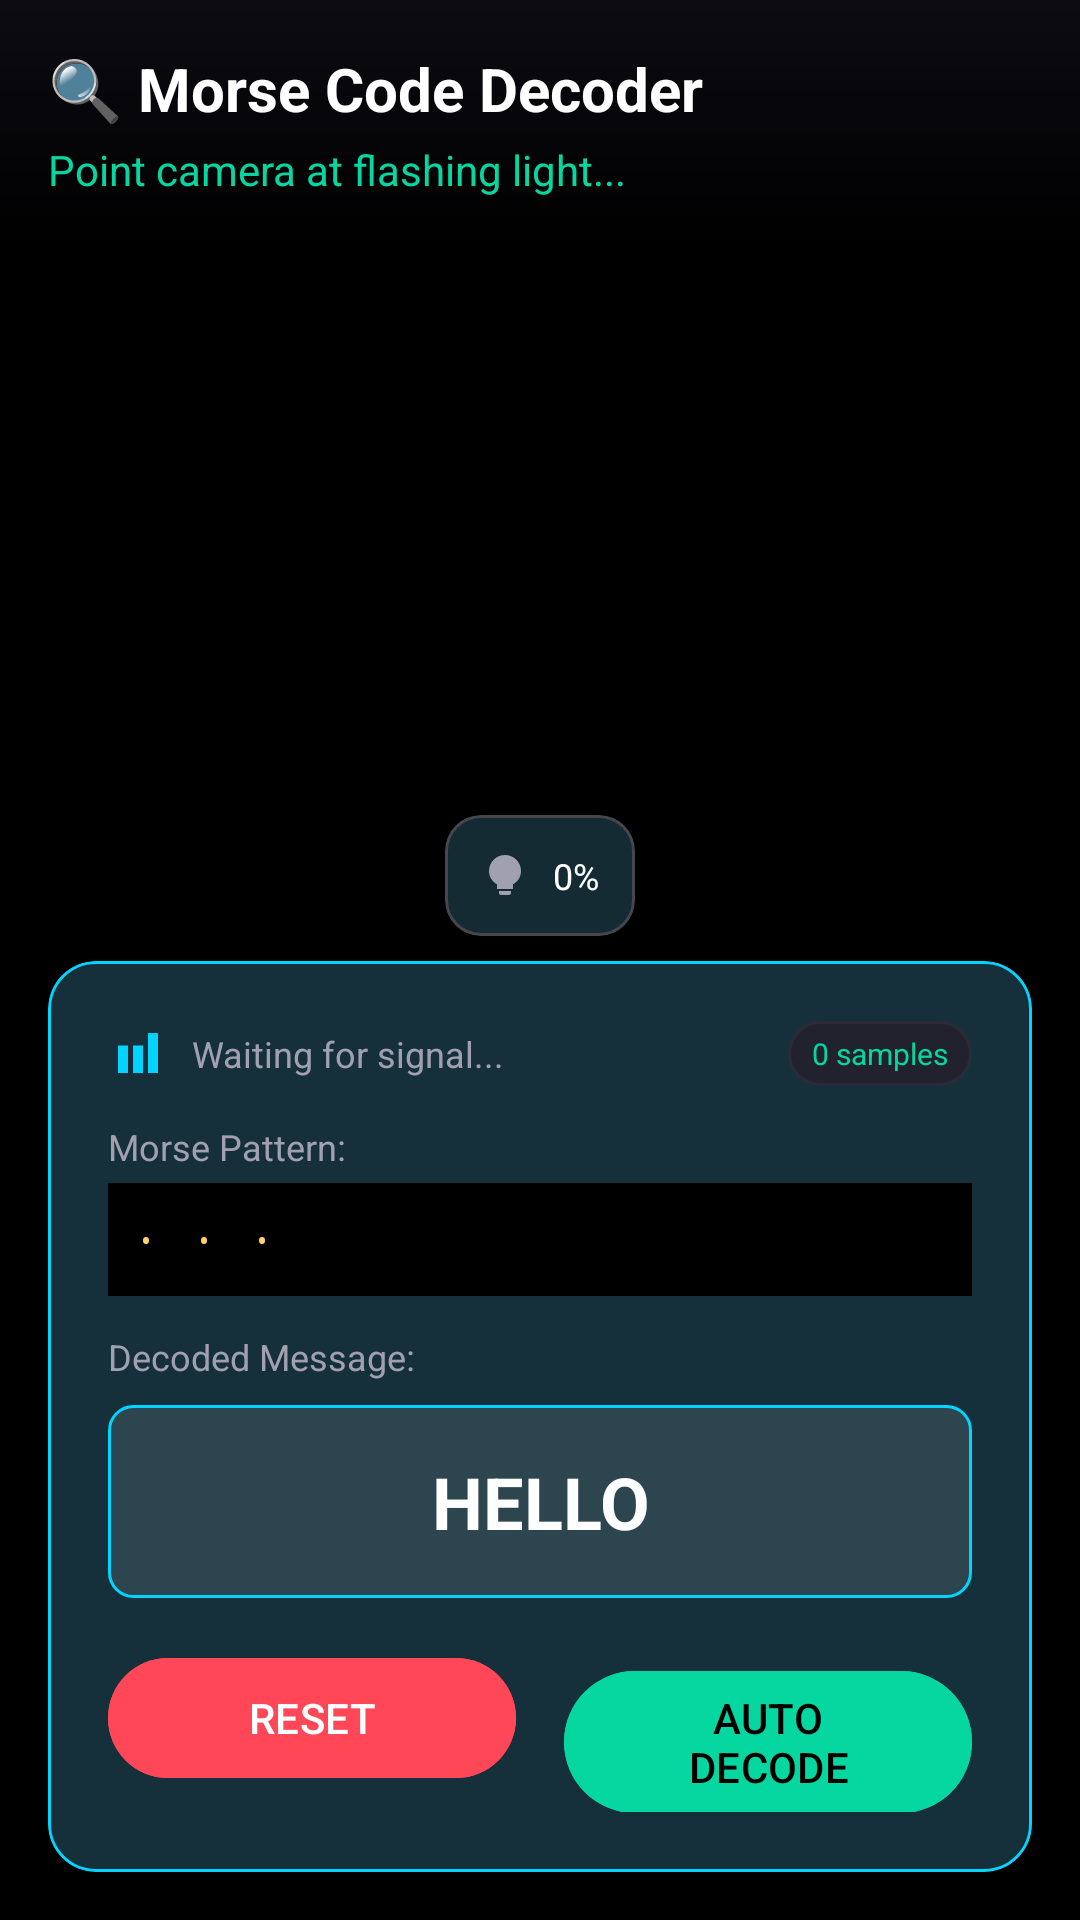

Point at icon controls on the screen. Image size 1080x1920, points as point (x, y).
lightbulb: point (505, 875)
